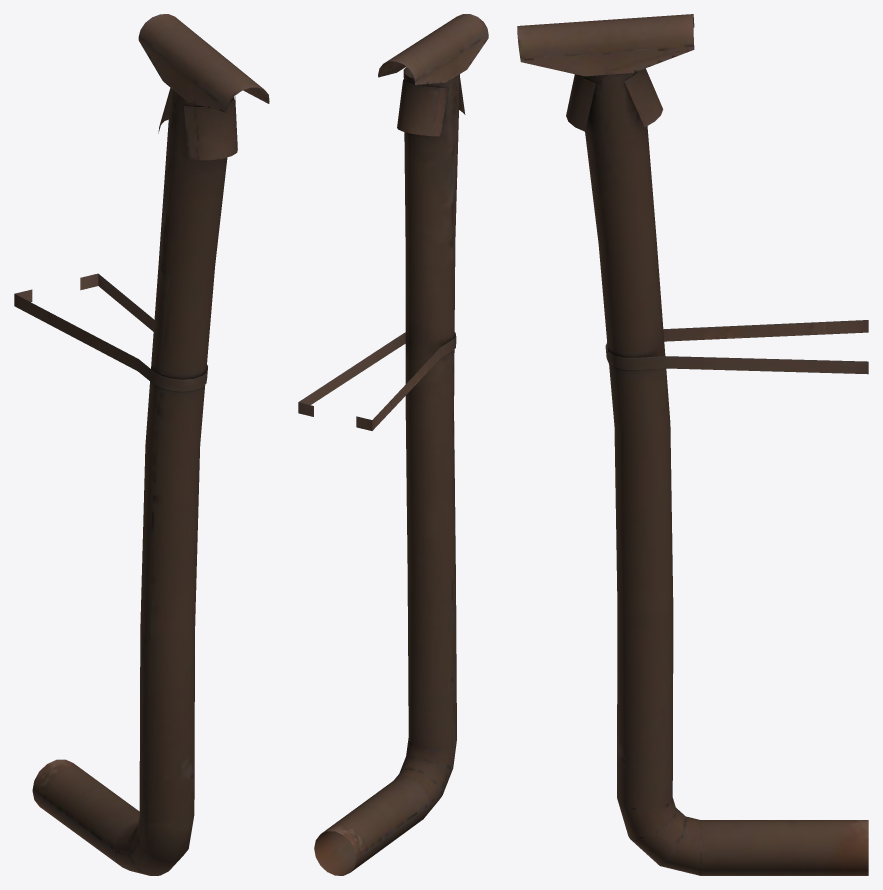
The picture shows the model from 3 angles, left to right: view 1: azimuth 30°, elevation 25°; view 2: azimuth 150°, elevation 25°; view 3: azimuth 270°, elevation 25°; orthographic projection. The views are drawn at different scales.
Visible parts, largest first — view 1: body0_model0_lod0_mesh0; view 2: body0_model0_lod0_mesh0; view 3: body0_model0_lod0_mesh0.
Boxes of the visible parts, x1,y1,x2,y2 form: body0_model0_lod0_mesh0: [14, 14, 269, 875]; body0_model0_lod0_mesh0: [298, 14, 488, 875]; body0_model0_lod0_mesh0: [517, 14, 868, 875].
Bounding box in the file's own units: 29.71 × 273 × 100.
1 material, 1 textured.
